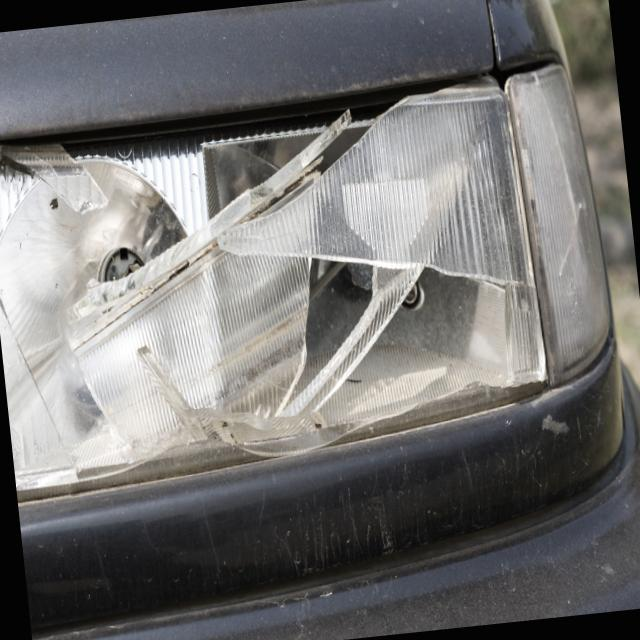Phare abime: (0, 70, 558, 468)
